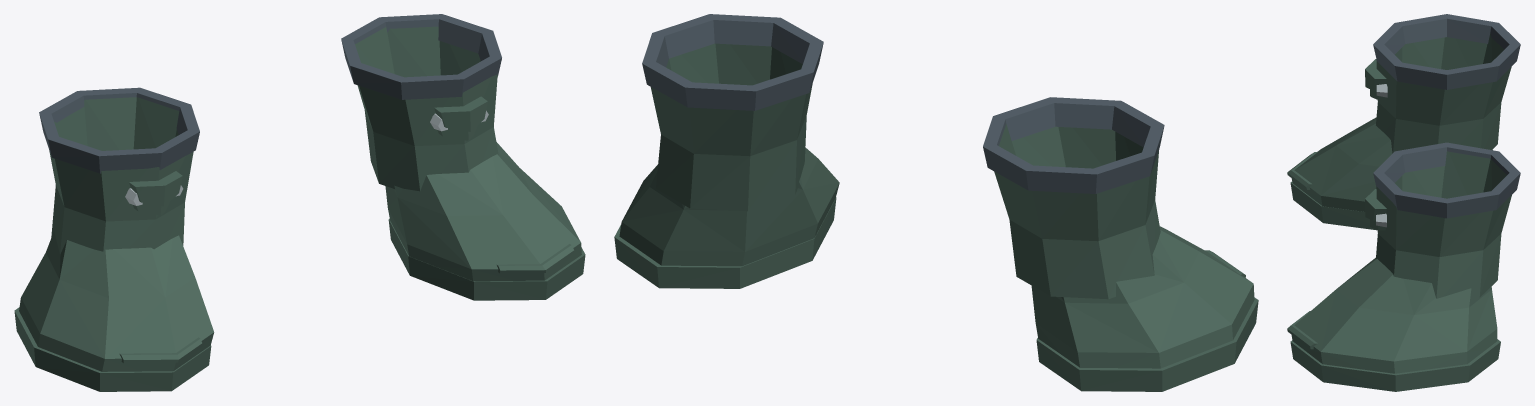
File: studded_feet-male-scaledHide.glb
3 views of the same model, side by side, from view 1: azimuth 30°, elevation 25°; view 2: azimuth 150°, elevation 25°; view 3: azimuth 270°, elevation 25° (orthographic). The views are drawn at different scales.
Visible parts, largest first — view 1: studded boot foot -1, studded boot foot 1, studded boot upper -1, studded boot upper 1, Turned boot cuff 1, Turned boot cuff -1, Boot sole -1, Boot sole 1, Lapped hide reinforcement studded boot upper 1 0, Lapped hide reinforcement studded boot upper -1 0, Boot toe welt -1, Boot toe welt 1; view 2: studded boot upper -1, studded boot upper 1, studded boot foot -1, studded boot foot 1, Turned boot cuff 1, Turned boot cuff -1, Boot sole -1, Boot sole 1; view 3: studded boot foot 1, studded boot upper 1, studded boot upper -1, Turned boot cuff -1, Turned boot cuff 1, studded boot foot -1, Boot sole 1, Boot sole -1, Lapped hide reinforcement studded boot upper -1 0, Lapped hide reinforcement studded boot upper 1 0, Boot toe welt 1, Boot toe welt -1.
Part boxes in pixels (bbox=[...]): studded boot foot -1: bbox=[19, 231, 214, 371]; studded boot foot 1: bbox=[385, 142, 581, 281]; studded boot upper -1: bbox=[49, 97, 193, 254]; studded boot upper 1: bbox=[355, 26, 498, 191]; Turned boot cuff 1: bbox=[341, 14, 501, 99]; Turned boot cuff -1: bbox=[39, 87, 199, 173]; Boot sole -1: bbox=[14, 307, 211, 391]; Boot sole 1: bbox=[388, 219, 585, 300]; Lapped hide reinforcement studded boot upper 1 0: bbox=[434, 96, 487, 131]; Lapped hide reinforcement studded boot upper -1 0: bbox=[129, 171, 182, 206]; Boot toe welt -1: bbox=[119, 337, 202, 363]; Boot toe welt 1: bbox=[497, 244, 574, 273]; studded boot upper -1: bbox=[994, 124, 1160, 299]; studded boot upper 1: bbox=[650, 43, 812, 211]; studded boot foot -1: bbox=[1031, 226, 1254, 368]; studded boot foot 1: bbox=[619, 147, 839, 266]; Turned boot cuff 1: bbox=[642, 14, 823, 110]; Turned boot cuff -1: bbox=[983, 97, 1164, 193]; Boot sole -1: bbox=[1036, 297, 1258, 391]; Boot sole 1: bbox=[614, 197, 836, 288]; studded boot foot 1: bbox=[1291, 257, 1497, 373]; studded boot upper 1: bbox=[1376, 151, 1511, 298]; studded boot upper -1: bbox=[1376, 33, 1511, 153]; Turned boot cuff -1: bbox=[1373, 14, 1520, 89]; Turned boot cuff 1: bbox=[1373, 142, 1520, 218]; studded boot foot -1: bbox=[1291, 117, 1492, 211]; Boot sole 1: bbox=[1290, 339, 1500, 391]; Boot sole -1: bbox=[1290, 181, 1377, 230]; Lapped hide reinforcement studded boot upper -1 0: bbox=[1365, 59, 1386, 90]; Lapped hide reinforcement studded boot upper 1 0: bbox=[1365, 189, 1386, 220]; Boot toe welt 1: bbox=[1287, 311, 1317, 349]; Boot toe welt -1: bbox=[1287, 152, 1317, 189].
Bounding box in the file's own units: 2.93 × 1.03 × 1.28.
